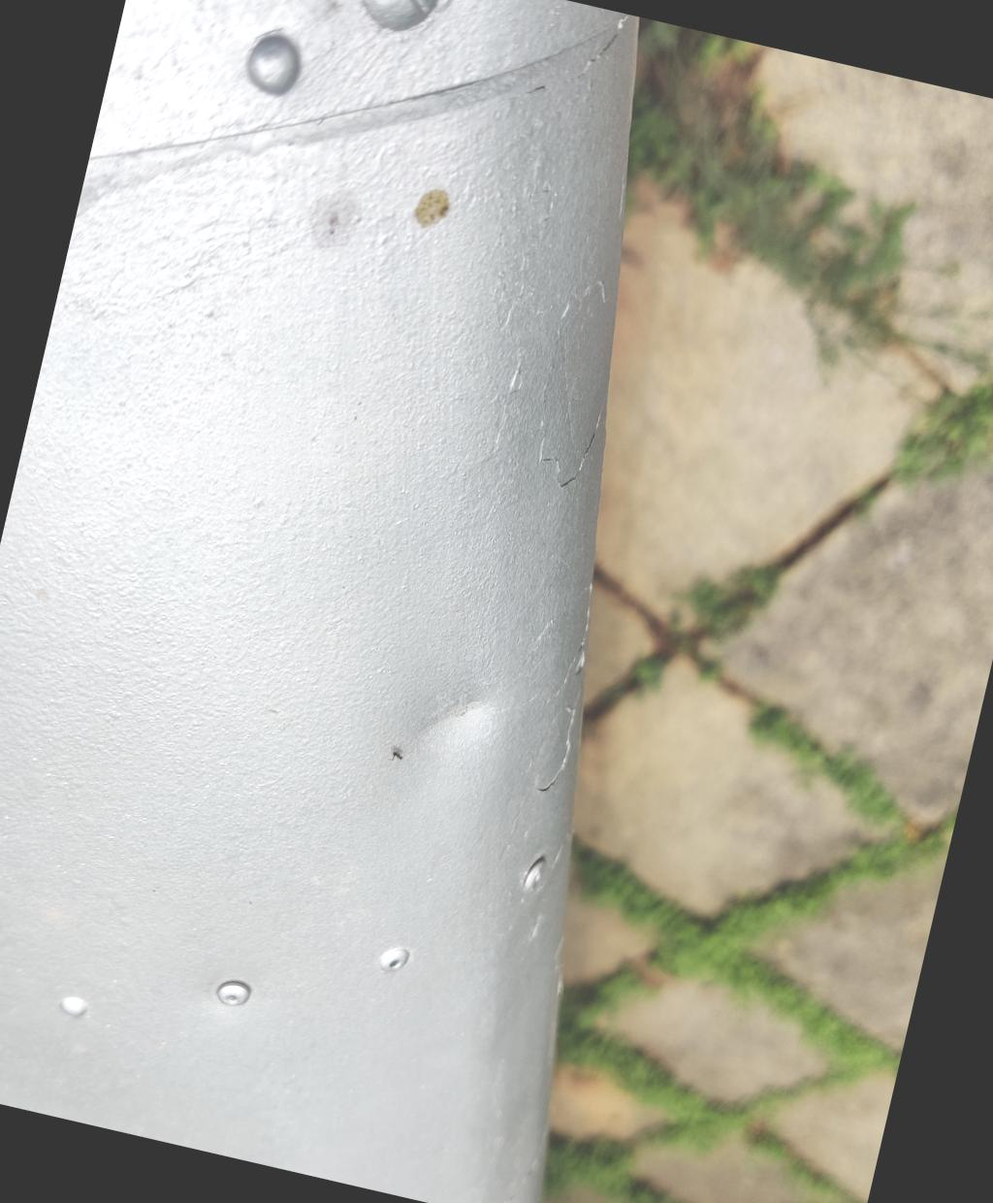dent: (337, 603, 558, 846)
